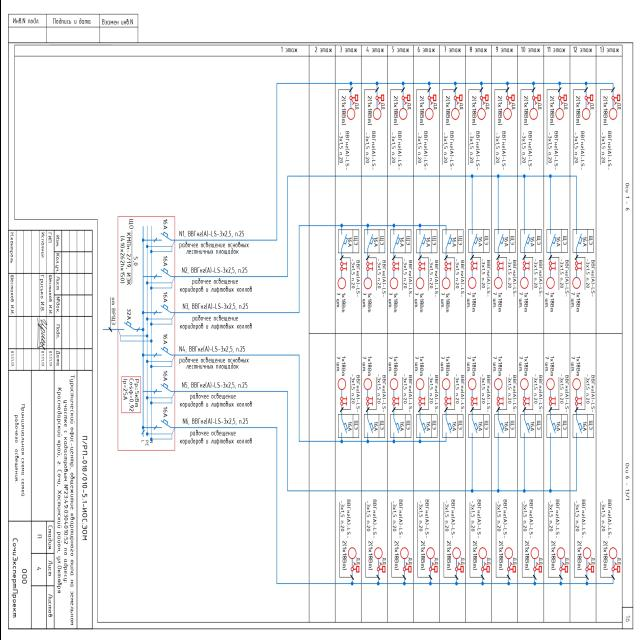-: (118, 232, 130, 288), (125, 308, 131, 322), (161, 369, 167, 382), (161, 255, 167, 268), (161, 332, 167, 344), (161, 290, 167, 302), (161, 406, 167, 418), (162, 218, 168, 230)
QF: (153, 382, 171, 396), (152, 231, 170, 244), (120, 321, 138, 334), (153, 268, 171, 281), (152, 418, 170, 431), (154, 304, 172, 317), (154, 346, 172, 358)
